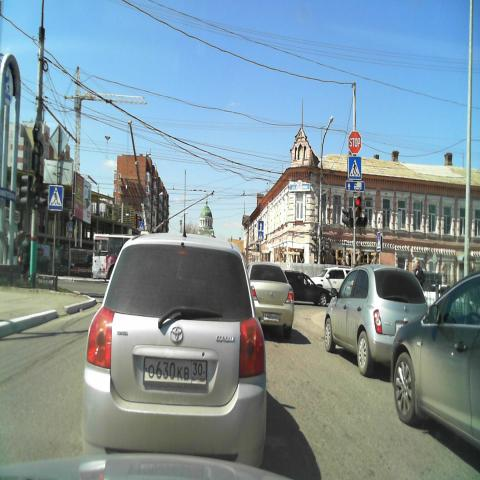2_5: (348, 129, 362, 153)
6_15_1: (345, 179, 365, 191)
